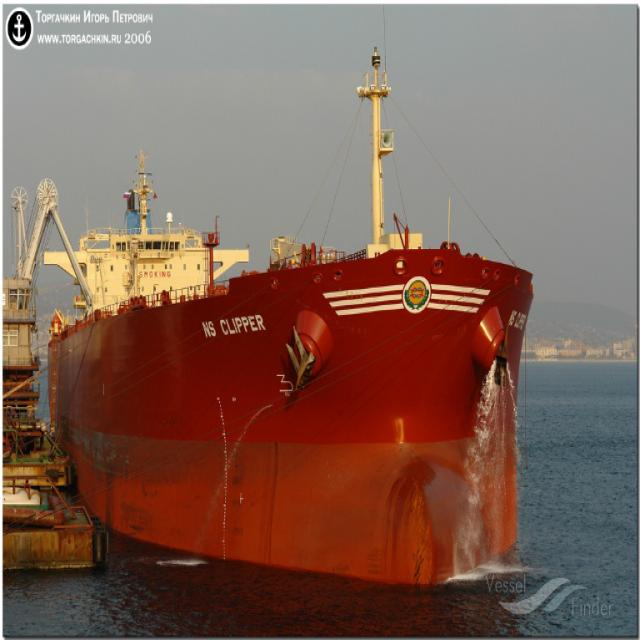Oil Tanker: (48, 76, 533, 584)
